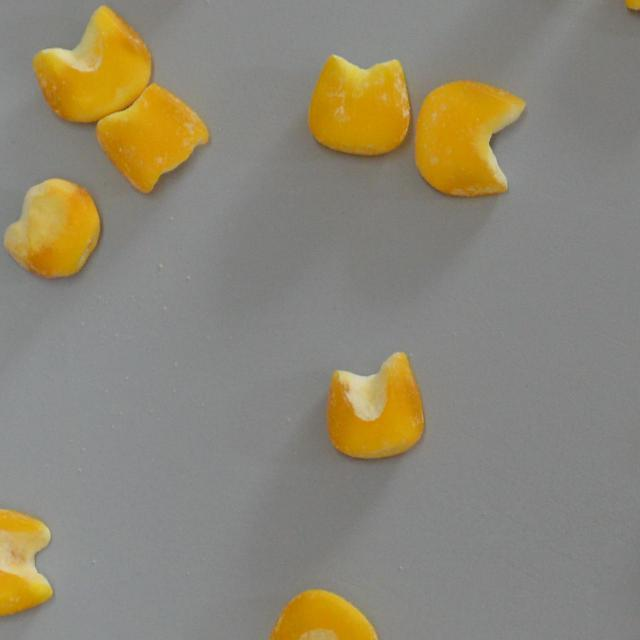no_canjicado: (326, 350, 424, 459), (2, 176, 101, 279), (264, 586, 383, 640), (0, 507, 54, 618)
pelicula: (28, 6, 158, 124), (414, 80, 526, 196), (95, 82, 212, 192), (308, 52, 410, 158)
